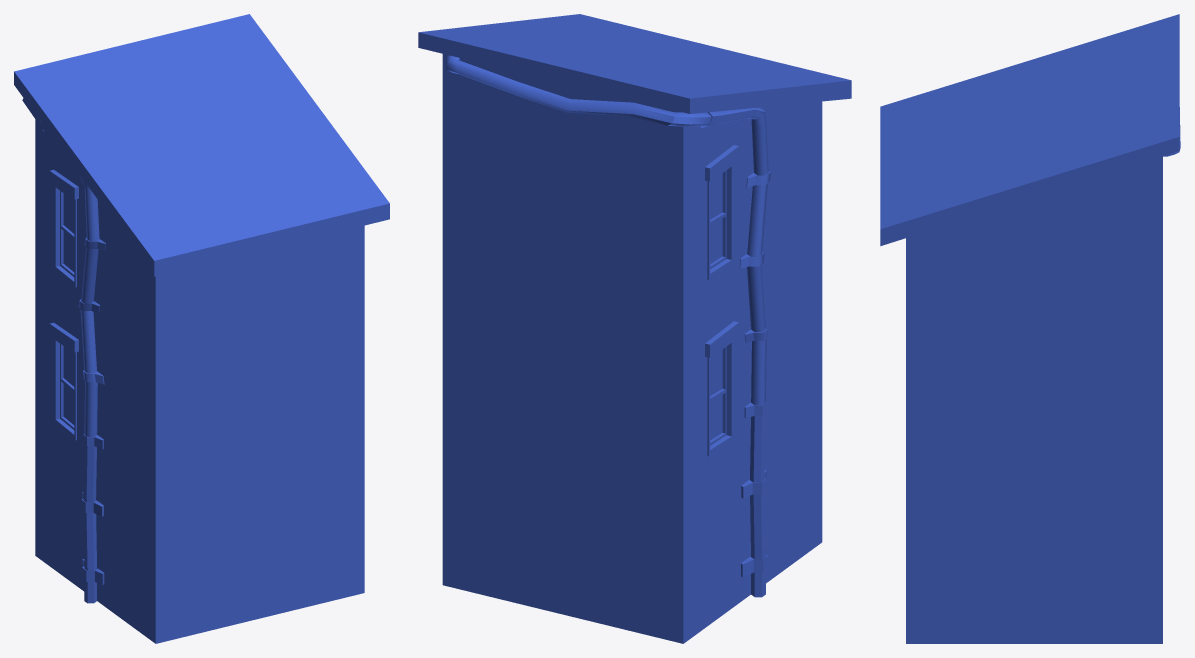
The model's file is SM_batiment3.fbx.
3 views of the same model, side by side, from view 1: azimuth 30°, elevation 25°; view 2: azimuth 150°, elevation 25°; view 3: azimuth 270°, elevation 25° (orthographic). The views are drawn at different scales.
Parts seen in each view (by area): view 1: Object007; view 2: Object007; view 3: Object007.
Boxes of the visible parts, <box> form: Object007: <box>14,14,389,643</box>; Object007: <box>418,14,851,643</box>; Object007: <box>880,14,1180,643</box>.
Size of the model in its own units: 1129 by 2206 by 1167.
